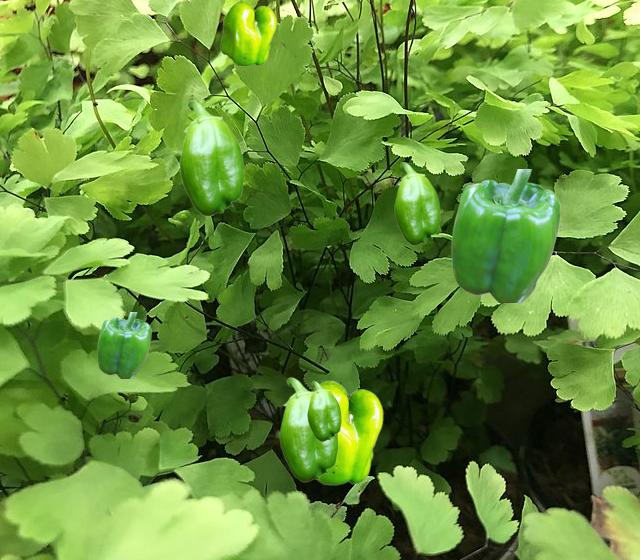bell_pepper: (451, 169, 559, 301), (311, 380, 382, 484), (179, 100, 243, 215), (279, 377, 337, 481), (394, 162, 439, 244), (220, 0, 275, 65), (97, 312, 150, 377), (307, 381, 340, 440)
